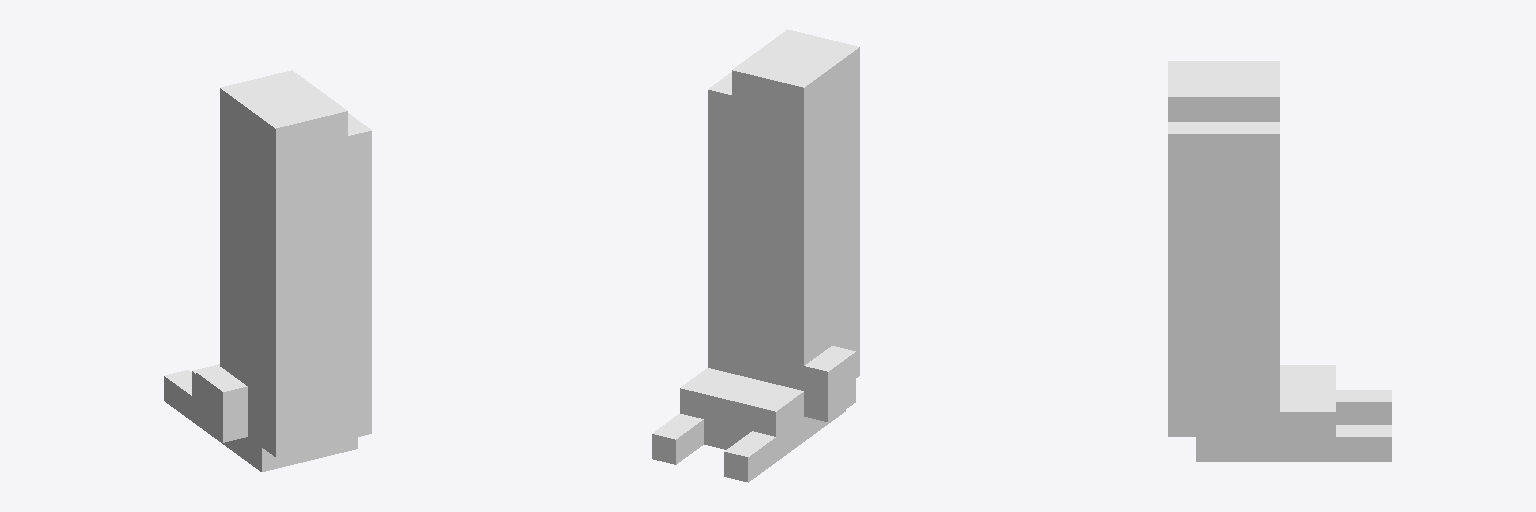
Rendered from Large_greenguy-3.obj.
The picture shows the model from 3 angles: view 1: azimuth 30°, elevation 25°; view 2: azimuth 150°, elevation 25°; view 3: azimuth 270°, elevation 25°; orthographic projection.
Visible parts, largest first — view 1: object 1; view 2: object 1; view 3: object 1.
Part boxes in pixels (left/top/right/bottom): object 1: left=164, top=70, right=371, bottom=471; object 1: left=652, top=29, right=859, bottom=482; object 1: left=1168, top=61, right=1391, bottom=461.
Bounding box in the file's own units: 0.5 × 1.4 × 0.8.